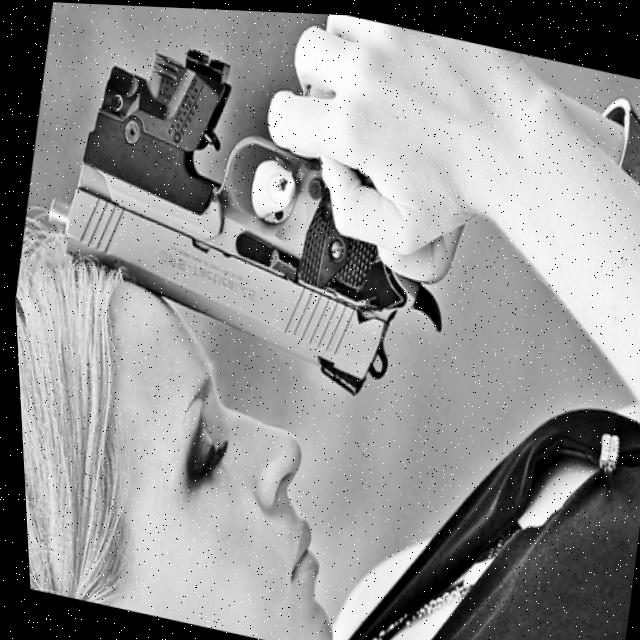pistol: (16, 24, 478, 409)
